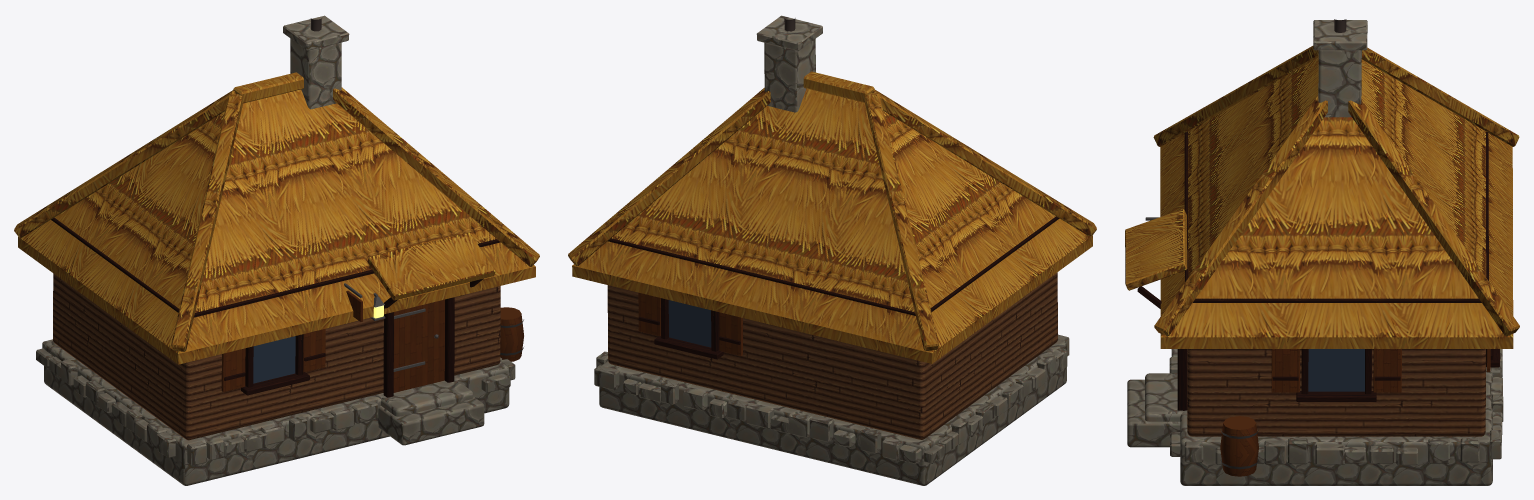
The model's file is rpg_cottage.gltf.
3 renders of one model, left to right at view 1: azimuth 30°, elevation 25°; view 2: azimuth 150°, elevation 25°; view 3: azimuth 270°, elevation 25°, orthographic. The views are drawn at different scales.
Parts seen in each view (by area): view 1: rpg_cottage_roof_LOD0, rpg_cottage_base_LOD0, rpg_cottage_wall_LOD0, rpg_cottage_door_LOD0, rpg_cottage_trim_LOD0, rpg_cottage_glass_LOD0, rpg_cottage_metal_LOD0; view 2: rpg_cottage_roof_LOD0, rpg_cottage_wall_LOD0, rpg_cottage_base_LOD0, rpg_cottage_trim_LOD0, rpg_cottage_door_LOD0, rpg_cottage_glass_LOD0; view 3: rpg_cottage_roof_LOD0, rpg_cottage_base_LOD0, rpg_cottage_wall_LOD0, rpg_cottage_trim_LOD0, rpg_cottage_door_LOD0, rpg_cottage_glass_LOD0, rpg_cottage_metal_LOD0.
Part boxes in pixels (x1=…): rpg_cottage_roof_LOD0: x1=14, y1=72, x2=539, y2=364; rpg_cottage_base_LOD0: x1=36, y1=15, x2=515, y2=485; rpg_cottage_wall_LOD0: x1=53, y1=273, x2=500, y2=440; rpg_cottage_door_LOD0: x1=221, y1=290, x2=523, y2=392; rpg_cottage_trim_LOD0: x1=51, y1=217, x2=500, y2=397; rpg_cottage_glass_LOD0: x1=253, y1=336, x2=295, y2=383; rpg_cottage_metal_LOD0: x1=310, y1=18, x2=523, y2=371; rpg_cottage_roof_LOD0: x1=568, y1=71, x2=1096, y2=363; rpg_cottage_wall_LOD0: x1=607, y1=272, x2=1057, y2=439; rpg_cottage_base_LOD0: x1=594, y1=15, x2=1069, y2=485; rpg_cottage_trim_LOD0: x1=608, y1=216, x2=1059, y2=359; rpg_cottage_door_LOD0: x1=638, y1=292, x2=742, y2=355; rpg_cottage_glass_LOD0: x1=668, y1=300, x2=711, y2=347; rpg_cottage_roof_LOD0: x1=1125, y1=46, x2=1519, y2=348; rpg_cottage_base_LOD0: x1=1127, y1=20, x2=1503, y2=485; rpg_cottage_wall_LOD0: x1=1187, y1=349, x2=1485, y2=436; rpg_cottage_trim_LOD0: x1=1137, y1=131, x2=1499, y2=410; rpg_cottage_door_LOD0: x1=1220, y1=349, x2=1490, y2=476; rpg_cottage_glass_LOD0: x1=1308, y1=349, x2=1364, y2=391; rpg_cottage_metal_LOD0: x1=1145, y1=19, x2=1346, y2=469.
Size of what is drawn, in the model's own units: 8.86 by 8.1 by 7.16.
8 materials, 5 textured.
